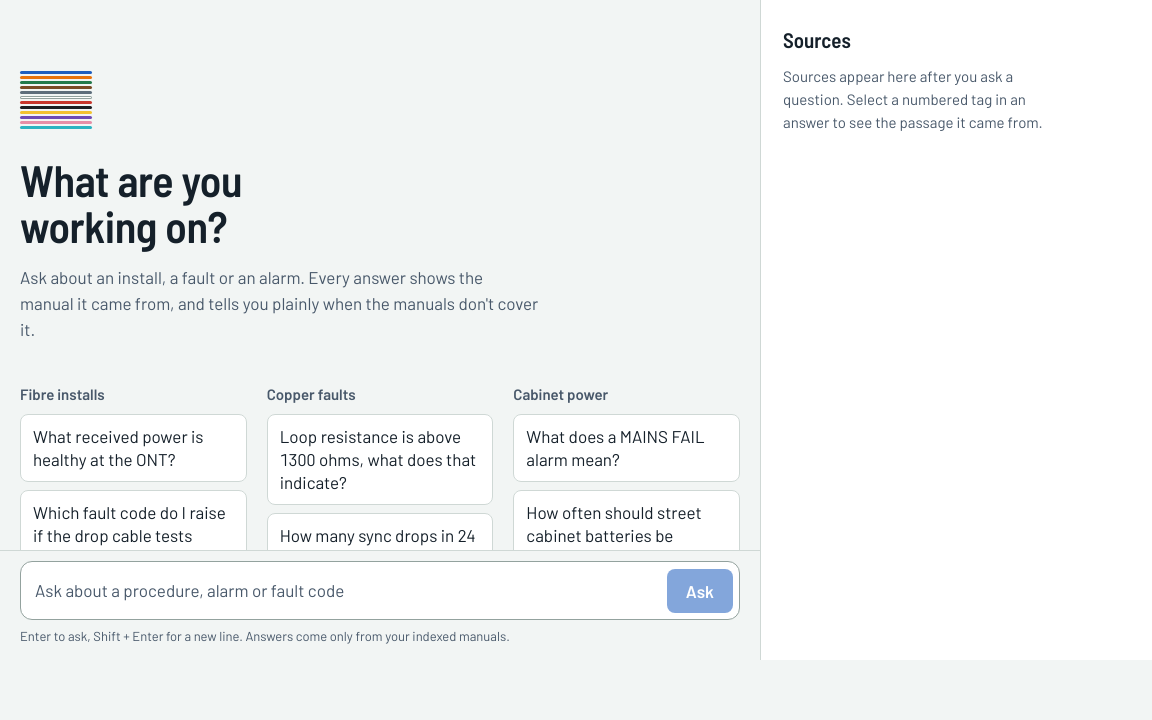
it: ChatPage › shows an error with a retry
Type "What is healthy power?" into the text box named "Your question" at (347, 590), box x1=35 y1=568 x2=659 y2=613
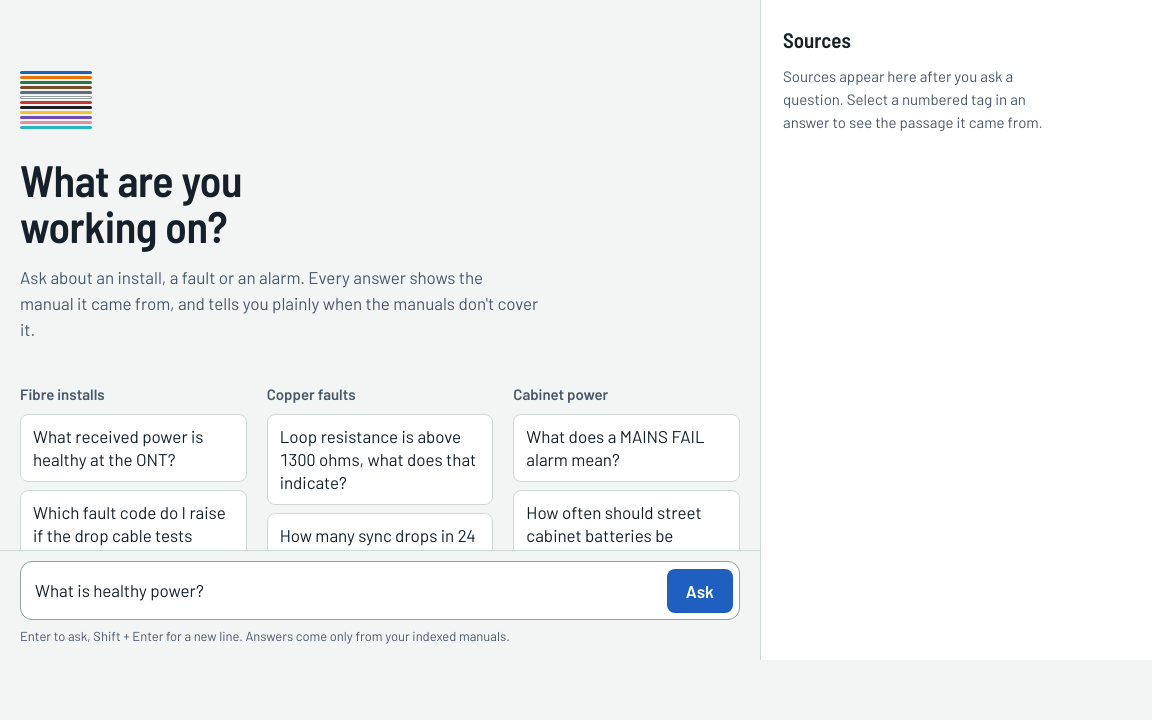
Click the button "Ask" at (700, 591), box x1=667 y1=569 x2=733 y2=613
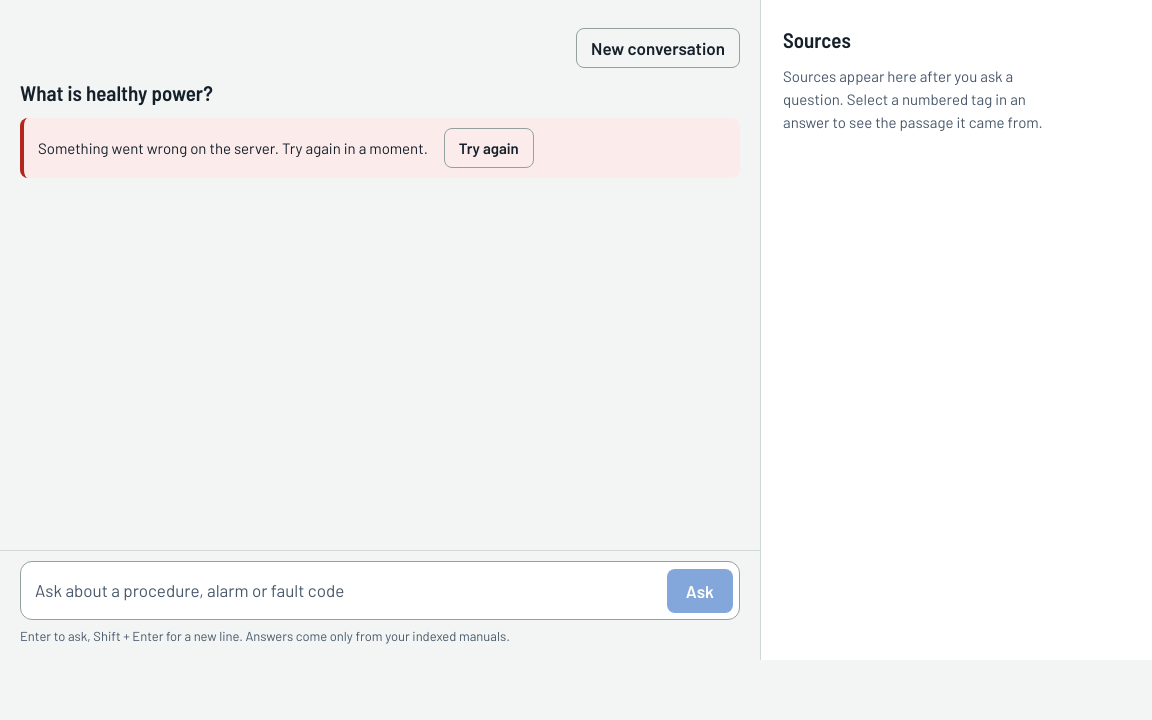
Result: the message shows "Something went wrong on the server" at x1=38 y1=139 x2=428 y2=157
Click the button "Try again" at (489, 148), box x1=444 y1=128 x2=534 y2=168
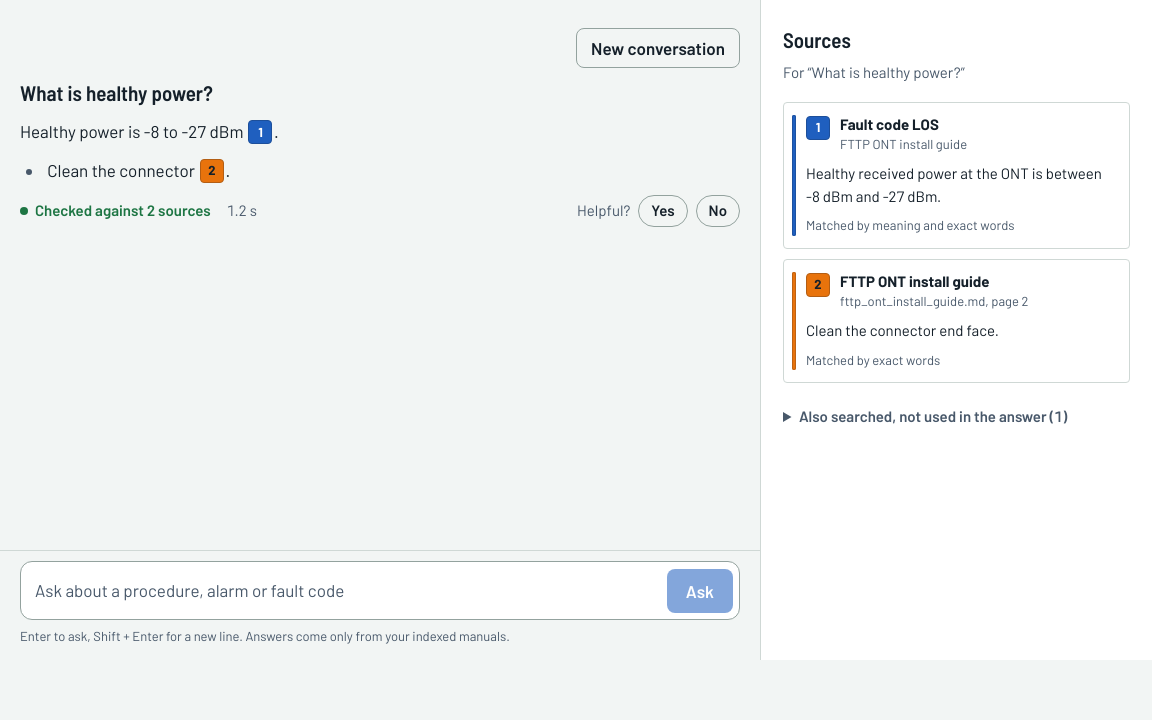
Result: the text "Checked against 2 sources" is shown at x1=20 y1=199 x2=211 y2=223
